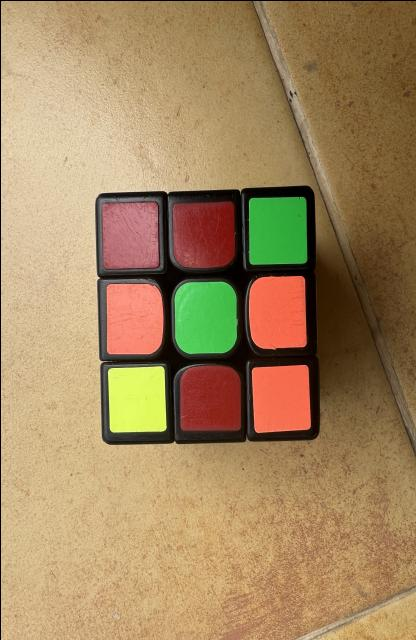Green: (173, 280, 236, 354), (248, 196, 307, 264)
Orange: (248, 275, 306, 349), (105, 282, 162, 354), (250, 364, 310, 432)
Red: (172, 200, 234, 268), (179, 365, 239, 430), (101, 201, 158, 269)
Yellow: (107, 365, 166, 431)
